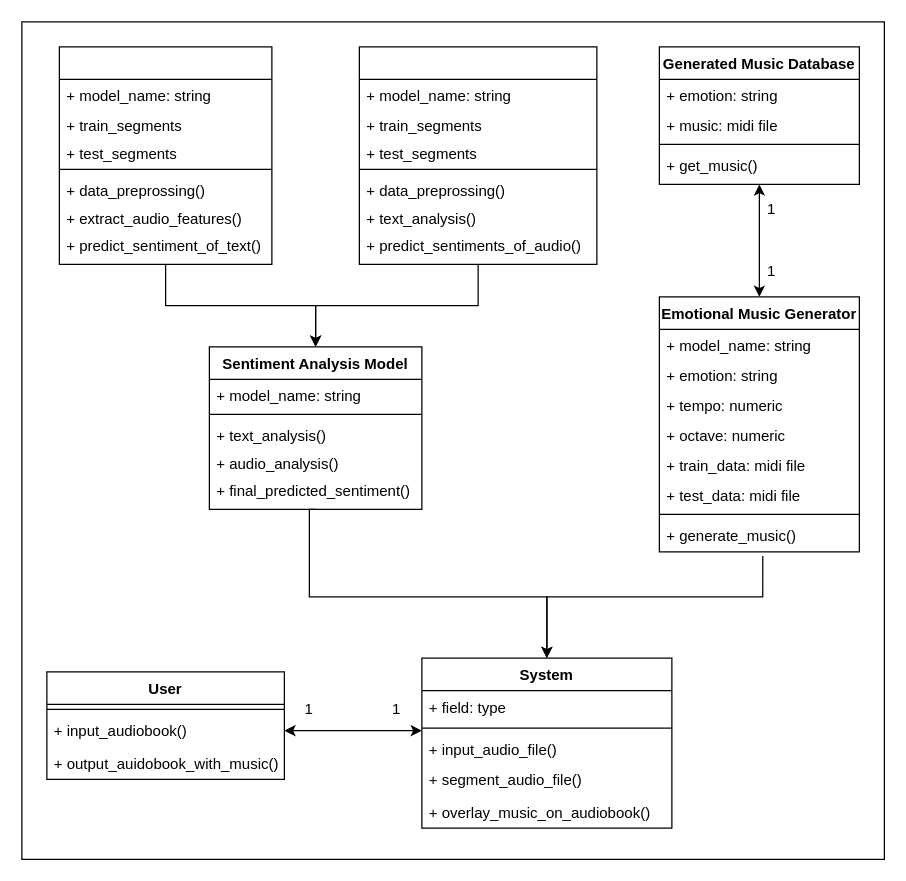
Image size: 906x881. Some labels were removed from this diagram. Each missing label, with the box of its shape:
Audio Sentiment Analizer: (58, 46, 272, 264)
Text Sentiment Analizer: (358, 46, 597, 264)
